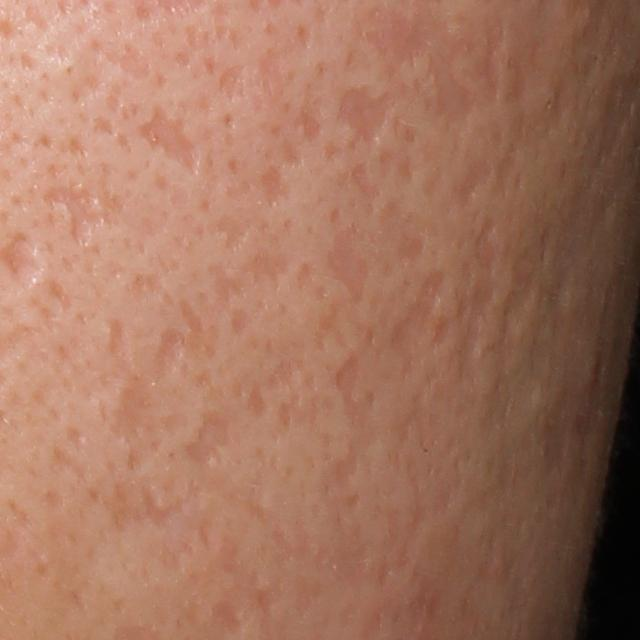atrophic_scar: (382, 11, 481, 133), (389, 268, 448, 382), (137, 98, 205, 175), (331, 83, 407, 149), (44, 178, 105, 253), (502, 250, 546, 344), (261, 356, 306, 429), (328, 226, 368, 305), (309, 298, 351, 359), (184, 415, 231, 469), (138, 480, 185, 533), (40, 438, 98, 480), (241, 246, 292, 292), (116, 387, 153, 445), (484, 14, 506, 104), (208, 263, 249, 306), (151, 329, 183, 383), (206, 597, 249, 637), (334, 349, 363, 408), (458, 162, 496, 203), (216, 214, 252, 252), (215, 64, 247, 105), (475, 219, 498, 274), (260, 168, 294, 204), (297, 102, 325, 144), (394, 231, 425, 266), (181, 299, 206, 335), (247, 377, 268, 417), (228, 307, 251, 334)
